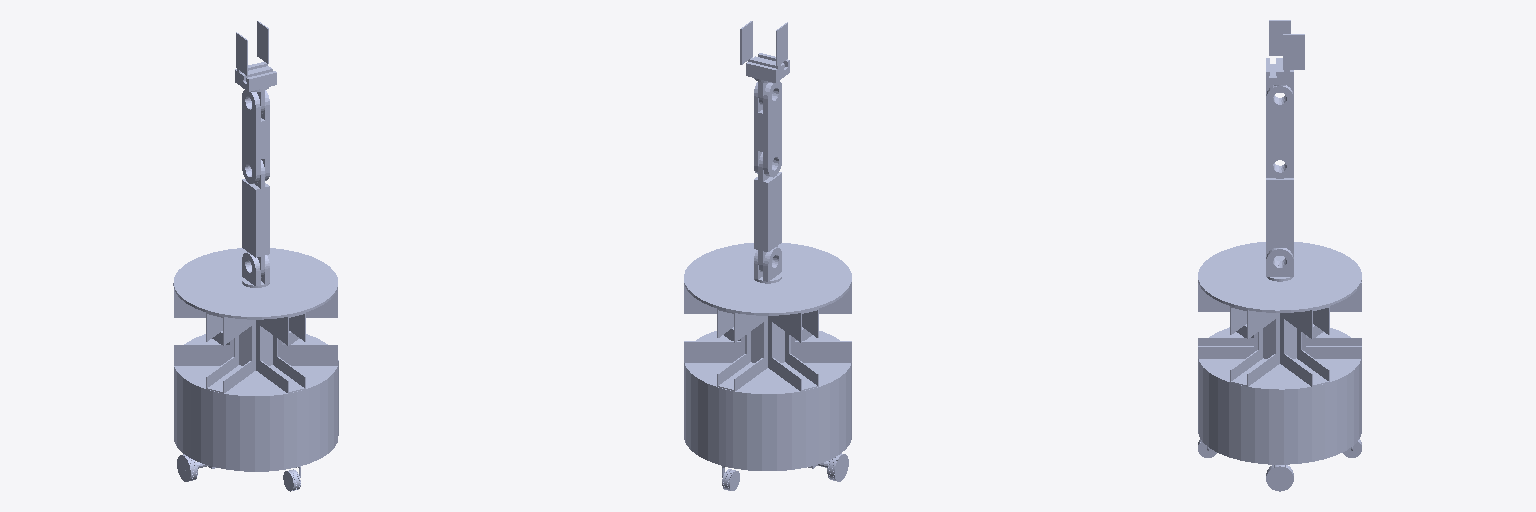
The robot description file, URDF, robot "library_bot_assm":
<?xml version="1.0" encoding="utf-8"?>
<!-- This URDF was automatically created by SolidWorks to URDF Exporter! Originally created by [author] ([email redacted]) 
     Commit Version: 1.6.0-4-g7f85cfe  Build Version: 1.6.7995.38578
     For more information, please see http://wiki.ros.org/sw_urdf_exporter -->
<robot
  name="library_bot_assm">
  <link name="world"/>
  <joint name="world_to_base" type="fixed">
  <parent link="world"/>
  <child link="bot_base_link"/>
  <origin xyz="0 0 0" rpy="0 0 0"/>
  </joint>
  <link
    name="bot_base_link">
    <inertial>
      <origin
        xyz="-9.00001597661697E-18 -2.58181987165882E-17 -0.419286362322794"
        rpy="0 0 0" />
      <mass
        value="95.6023685202303" />
      <inertia
        ixx="3.54500161671179"
        ixy="-5.31259064517897E-18"
        ixz="2.76471553983804E-18"
        iyy="3.57118394280799"
        iyz="-3.31181542125083E-16"
        izz="3.86248881264609" />
    </inertial>
    <visual>
      <origin
        xyz="0 0 0"
        rpy="0 0 0" />
      <geometry>
        <mesh
          filename="package://library_bot_assm/meshes/bot_base_link.STL" />
      </geometry>
      <material
        name="">
        <color
          rgba="0.792156862745098 0.819607843137255 0.933333333333333 1" />
      </material>
    </visual>
    <collision>
      <origin
        xyz="0 0 0"
        rpy="0 0 0" />
      <geometry>
        <mesh
          filename="package://library_bot_assm/meshes/bot_base_link.STL" />
      </geometry>
    </collision>
  </link>
  <link
    name="drive_wheel_left_link">
    <inertial>
      <origin
        xyz="-2.28615654084008E-16 1.11022302462516E-16 -0.015"
        rpy="0 0 0" />
      <mass
        value="0.220374767201206" />
      <inertia
        ixx="0.000162575540140175"
        ixy="-3.36042123849673E-22"
        ixz="2.4353779546448E-21"
        iyy="0.000162575540140175"
        iyz="4.50137116569684E-22"
        izz="0.000292094865200169" />
    </inertial>
    <visual>
      <origin
        xyz="0 0 0"
        rpy="0 0 0" />
      <geometry>
        <mesh
          filename="package://library_bot_assm/meshes/drive_wheel_left_link.STL" />
      </geometry>
      <material
        name="">
        <color
          rgba="0.792156862745098 0.819607843137255 0.933333333333333 1" />
      </material>
    </visual>
    <collision>
      <origin
        xyz="0 0 0"
        rpy="0 0 0" />
      <geometry>
        <mesh
          filename="package://library_bot_assm/meshes/drive_wheel_left_link.STL" />
      </geometry>
    </collision>
  </link>
  <joint
    name="drive_wheel_left_joint"
    type="continuous">
    <origin
      xyz="-0.27 0 -0.66"
      rpy="-1.5707963267949 0 -1.5707963267949" />
    <parent
      link="bot_base_link" />
    <child
      link="drive_wheel_left_link" />
    <axis
      xyz="0 0 1" />
  </joint>
  <link
    name="drive_wheel_right_link">
    <inertial>
      <origin
        xyz="-2.28513258118277E-16 0 0.0150000000000001"
        rpy="0 0 0" />
      <mass
        value="0.220374767201206" />
      <inertia
        ixx="0.000162575540140175"
        ixy="-4.80798731046448E-21"
        ixz="4.59902630806203E-22"
        iyy="0.000162575540140175"
        iyz="-2.95317189816604E-22"
        izz="0.000292094865200169" />
    </inertial>
    <visual>
      <origin
        xyz="0 0 0"
        rpy="0 0 0" />
      <geometry>
        <mesh
          filename="package://library_bot_assm/meshes/drive_wheel_right_link.STL" />
      </geometry>
      <material
        name="">
        <color
          rgba="0.792156862745098 0.819607843137255 0.933333333333333 1" />
      </material>
    </visual>
    <collision>
      <origin
        xyz="0 0 0"
        rpy="0 0 0" />
      <geometry>
        <mesh
          filename="package://library_bot_assm/meshes/drive_wheel_right_link.STL" />
      </geometry>
    </collision>
  </link>
  <joint
    name="drive_wheel_right_joint"
    type="continuous">
    <origin
      xyz="0.27 0 -0.66"
      rpy="-1.5707963267949 0 -1.5707963267949" />
    <parent
      link="bot_base_link" />
    <child
      link="drive_wheel_right_link" />
    <axis
      xyz="0 0 1" />
  </joint>
  <link
    name="swivel_front_link">
    <inertial>
      <origin
        xyz="0.00760462966279492 -0.0633613818775779 0"
        rpy="0 0 0" />
      <mass
        value="0.0236444808728788" />
      <inertia
        ixx="1.38069026593696E-05"
        ixy="-2.40548516604097E-06"
        ixz="-1.41776354874208E-22"
        iyy="5.52868478263428E-06"
        iyz="-1.99276965618111E-22"
        izz="1.8073623534725E-05" />
    </inertial>
    <visual>
      <origin
        xyz="0 0 0"
        rpy="0 0 0" />
      <geometry>
        <mesh
          filename="package://library_bot_assm/meshes/swivel_front_link.STL" />
      </geometry>
      <material
        name="">
        <color
          rgba="0.792156862745098 0.819607843137255 0.933333333333333 1" />
      </material>
    </visual>
    <collision>
      <origin
        xyz="0 0 0"
        rpy="0 0 0" />
      <geometry>
        <mesh
          filename="package://library_bot_assm/meshes/swivel_front_link.STL" />
      </geometry>
    </collision>
  </link>
  <joint
    name="swivel_front_joint"
    type="continuous">
    <origin
      xyz="0 0.25982621214848 -0.595"
      rpy="1.5707963267949 0 0" />
    <parent
      link="bot_base_link" />
    <child
      link="swivel_front_link" />
    <axis
      xyz="0 1 0" />
  </joint>
  <link
    name="swivelwheel_front_link">
    <inertial>
      <origin
        xyz="5.55111512312578E-17 1.11022302462516E-16 2.22614707383154E-16"
        rpy="0 0 0" />
      <mass
        value="0.117291638747911" />
      <inertia
        ixx="5.44584550233809E-05"
        ixy="-1.83756880608948E-20"
        ixz="4.65183930171833E-21"
        iyy="5.44584550233809E-05"
        iyz="-6.74640617676431E-21"
        izz="9.13231642345752E-05" />
    </inertial>
    <visual>
      <origin
        xyz="0 0 0"
        rpy="0 0 0" />
      <geometry>
        <mesh
          filename="package://library_bot_assm/meshes/swivelwheel_front_link.STL" />
      </geometry>
      <material
        name="">
        <color
          rgba="0.792156862745098 0.819607843137255 0.933333333333333 1" />
      </material>
    </visual>
    <collision>
      <origin
        xyz="0 0 0"
        rpy="0 0 0" />
      <geometry>
        <mesh
          filename="package://library_bot_assm/meshes/swivelwheel_front_link.STL" />
      </geometry>
    </collision>
  </link>
  <joint
    name="swivelwheel_front_joint"
    type="continuous">
    <origin
      xyz="0 -0.0774999999999999 0"
      rpy="0 -1.5707963267949 0" />
    <parent
      link="swivel_front_link" />
    <child
      link="swivelwheel_front_link" />
    <axis
      xyz="0 0 1" />
  </joint>
  <link
    name="swivel_back_link">
    <inertial>
      <origin
        xyz="0.0076046296627947 -0.0633613818775779 0"
        rpy="0 0 0" />
      <mass
        value="0.0236444808728788" />
      <inertia
        ixx="1.38069026593696E-05"
        ixy="-2.40548516604097E-06"
        ixz="-1.41776354874208E-22"
        iyy="5.52868478263428E-06"
        iyz="-1.99276965618111E-22"
        izz="1.8073623534725E-05" />
    </inertial>
    <visual>
      <origin
        xyz="0 0 0"
        rpy="0 0 0" />
      <geometry>
        <mesh
          filename="package://library_bot_assm/meshes/swivel_back_link.STL" />
      </geometry>
      <material
        name="">
        <color
          rgba="0.792156862745098 0.819607843137255 0.933333333333333 1" />
      </material>
    </visual>
    <collision>
      <origin
        xyz="0 0 0"
        rpy="0 0 0" />
      <geometry>
        <mesh
          filename="package://library_bot_assm/meshes/swivel_back_link.STL" />
      </geometry>
    </collision>
  </link>
  <joint
    name="swivel_back_joint"
    type="continuous">
    <origin
      xyz="0 -0.259826212148481 -0.595"
      rpy="1.5707963267949 0 0" />
    <parent
      link="bot_base_link" />
    <child
      link="swivel_back_link" />
    <axis
      xyz="0 1 0" />
  </joint>
  <link
    name="swivelwheel_back_link">
    <inertial>
      <origin
        xyz="0 0 6.3995761596305E-19"
        rpy="0 0 0" />
      <mass
        value="0.117291638747911" />
      <inertia
        ixx="5.44584550233809E-05"
        ixy="-1.49215627686324E-20"
        ixz="3.48199429139889E-21"
        iyy="5.44584550233809E-05"
        iyz="-7.34477589515525E-21"
        izz="9.13231642345753E-05" />
    </inertial>
    <visual>
      <origin
        xyz="0 0 0"
        rpy="0 0 0" />
      <geometry>
        <mesh
          filename="package://library_bot_assm/meshes/swivelwheel_back_link.STL" />
      </geometry>
      <material
        name="">
        <color
          rgba="0.792156862745098 0.819607843137255 0.933333333333333 1" />
      </material>
    </visual>
    <collision>
      <origin
        xyz="0 0 0"
        rpy="0 0 0" />
      <geometry>
        <mesh
          filename="package://library_bot_assm/meshes/swivelwheel_back_link.STL" />
      </geometry>
    </collision>
  </link>
  <joint
    name="swivelwheel_back_joint"
    type="continuous">
    <origin
      xyz="0 -0.0775 0"
      rpy="0 -1.5707963267949 0" />
    <parent
      link="swivel_back_link" />
    <child
      link="swivelwheel_back_link" />
    <axis
      xyz="0 0 1" />
  </joint>
  <link
    name="arm1_link">
    <inertial>
      <origin
        xyz="-1.19990045728466E-18 0.0574056537017304 0.01"
        rpy="0 0 0" />
      <mass
        value="0.39707963267949" />
      <inertia
        ixx="0.000838667522715935"
        ixy="4.00523220180742E-20"
        ixz="3.45295789932022E-21"
        iyy="0.000522111614960166"
        iyz="5.32969071569881E-20"
        izz="0.000690798519008228" />
    </inertial>
    <visual>
      <origin
        xyz="0 0 0"
        rpy="0 0 0" />
      <geometry>
        <mesh
          filename="package://library_bot_assm/meshes/arm1_link.STL" />
      </geometry>
      <material
        name="">
        <color
          rgba="0.792156862745098 0.819607843137255 0.933333333333333 1" />
      </material>
    </visual>
    <collision>
      <origin
        xyz="0 0 0"
        rpy="0 0 0" />
      <geometry>
        <mesh
          filename="package://library_bot_assm/meshes/arm1_link.STL" />
      </geometry>
    </collision>
  </link>
  <joint
    name="arm1_joint"
    type="continuous">
    <origin
      xyz="0 0.01 0"
      rpy="1.5707963267949 0 0" />
    <parent
      link="bot_base_link" />
    <child
      link="arm1_link" />
    <axis
      xyz="0 1 0" />
  </joint>
  <link
    name="arm2_link">
    <inertial>
      <origin
        xyz="-4.32481862348499E-19 0.137125967226228 1.5790313656305E-14"
        rpy="0 0 0" />
      <mass
        value="0.979269908169873" />
      <inertia
        ixx="0.00869233762509293"
        ixy="2.25148676868435E-19"
        ixz="5.47718806389964E-20"
        iyy="0.00137892712566646"
        iyz="8.47824992461145E-19"
        izz="0.00803469515997113" />
    </inertial>
    <visual>
      <origin
        xyz="0 0 0"
        rpy="0 0 0" />
      <geometry>
        <mesh
          filename="package://library_bot_assm/meshes/arm2_link.STL" />
      </geometry>
      <material
        name="">
        <color
          rgba="0.792156862745098 0.819607843137255 0.933333333333333 1" />
      </material>
    </visual>
    <collision>
      <origin
        xyz="0 0 0"
        rpy="0 0 0" />
      <geometry>
        <mesh
          filename="package://library_bot_assm/meshes/arm2_link.STL" />
      </geometry>
    </collision>
  </link>
  <joint
    name="arm2_joint"
    type="revolute">
    <origin
      xyz="0 0.0799999999999999 0.01"
      rpy="0 0 0" />
    <parent
      link="arm1_link" />
    <child
      link="arm2_link" />
    <axis
      xyz="1 0 0" />
    <limit
      lower="-1.5708"
      upper="1.5708"
      effort="0"
      velocity="0" />
  </joint>
  <link
    name="arm3_link">
    <inertial>
      <origin
        xyz="-2.25449825414057E-19 0.145125740501822 1.58008868732187E-14"
        rpy="0 0 0" />
      <mass
        value="0.939269908169872" />
      <inertia
        ixx="0.00722908215002739"
        ixy="2.19044783884263E-20"
        ixz="2.62785139153205E-20"
        iyy="0.000736260458999793"
        iyz="-4.29242111266981E-20"
        izz="0.00676343968490559" />
    </inertial>
    <visual>
      <origin
        xyz="0 0 0"
        rpy="0 0 0" />
      <geometry>
        <mesh
          filename="package://library_bot_assm/meshes/arm3_link.STL" />
      </geometry>
      <material
        name="">
        <color
          rgba="0.792156862745098 0.819607843137255 0.933333333333333 1" />
      </material>
    </visual>
    <collision>
      <origin
        xyz="0 0 0"
        rpy="0 0 0" />
      <geometry>
        <mesh
          filename="package://library_bot_assm/meshes/arm3_link.STL" />
      </geometry>
    </collision>
  </link>
  <joint
    name="arm3_joint"
    type="prismatic">
    <origin
      xyz="0 0.1 0"
      rpy="0 0 0" />
    <parent
      link="arm2_link" />
    <child
      link="arm3_link" />
    <axis
      xyz="0 1 0" />
    <limit
      lower="0"
      upper="0.19"
      effort="0"
      velocity="0" />
  </joint>
  <link
    name="arm4_link">
    <inertial>
      <origin
        xyz="-2.75533202459304E-19 0.135 -1.88445319376486E-15"
        rpy="0 0 0" />
      <mass
        value="1.53707963267949" />
      <inertia
        ixx="0.0132798880020701"
        ixy="-7.94093388050907E-20"
        ixz="-1.84967888061378E-20"
        iyy="0.00186787368907097"
        iyz="1.99933319034426E-19"
        izz="0.0125041499946547" />
    </inertial>
    <visual>
      <origin
        xyz="0 0 0"
        rpy="0 0 0" />
      <geometry>
        <mesh
          filename="package://library_bot_assm/meshes/arm4_link.STL" />
      </geometry>
      <material
        name="">
        <color
          rgba="0.792156862745098 0.819607843137255 0.933333333333333 1" />
      </material>
    </visual>
    <collision>
      <origin
        xyz="0 0 0"
        rpy="0 0 0" />
      <geometry>
        <mesh
          filename="package://library_bot_assm/meshes/arm4_link.STL" />
      </geometry>
    </collision>
  </link>
  <joint
    name="arm4_joint"
    type="revolute">
    <origin
      xyz="0 0.28 0"
      rpy="0 0 0" />
    <parent
      link="arm3_link" />
    <child
      link="arm4_link" />
    <axis
      xyz="1 0 0" />
    <limit
      lower="-1.5708"
      upper="1.5708"
      effort="0"
      velocity="0" />
  </joint>
  <link
    name="gripper_base_link">
    <inertial>
      <origin
        xyz="7.63638074505723E-18 0.0702475328230157 -4.43106300640604E-15"
        rpy="0 0 0" />
      <mass
        value="0.693809724509618" />
      <inertia
        ixx="0.00159672167512236"
        ixy="4.7762734252363E-20"
        ixz="-1.22738383160377E-19"
        iyy="0.00119583522942448"
        iyz="2.14669194784949E-19"
        izz="0.00160407921000055" />
    </inertial>
    <visual>
      <origin
        xyz="0 0 0"
        rpy="0 0 0" />
      <geometry>
        <mesh
          filename="package://library_bot_assm/meshes/gripper_base_link.STL" />
      </geometry>
      <material
        name="">
        <color
          rgba="0.792156862745098 0.819607843137255 0.933333333333333 1" />
      </material>
    </visual>
    <collision>
      <origin
        xyz="0 0 0"
        rpy="0 0 0" />
      <geometry>
        <mesh
          filename="package://library_bot_assm/meshes/gripper_base_link.STL" />
      </geometry>
    </collision>
  </link>
  <joint
    name="gripper_base_joint"
    type="revolute">
    <origin
      xyz="0 0.27 0"
      rpy="0 0 0" />
    <parent
      link="arm4_link" />
    <child
      link="gripper_base_link" />
    <axis
      xyz="1 0 0" />
    <limit
      lower="-1.5708"
      upper="1.5708"
      effort="0"
      velocity="0" />
  </joint>
  <link
    name="gripper_pad1_link">
    <inertial>
      <origin
        xyz="0.0129629629629634 -0.0371180555555556 -0.0430555555555556"
        rpy="0 0 0" />
      <mass
        value="0.108" />
      <inertia
        ixx="0.000353619661458332"
        ixy="6.0034722222225E-05"
        ixz="2.0222222222223E-05"
        iyy="9.19560185185198E-05"
        iyz="-7.20416666666664E-05"
        izz="0.000360192346643518" />
    </inertial>
    <visual>
      <origin
        xyz="0 0 0"
        rpy="0 0 0" />
      <geometry>
        <mesh
          filename="package://library_bot_assm/meshes/gripper_pad1_link.STL" />
      </geometry>
      <material
        name="">
        <color
          rgba="0.792156862745098 0.819607843137255 0.933333333333333 1" />
      </material>
    </visual>
    <collision>
      <origin
        xyz="0 0 0"
        rpy="0 0 0" />
      <geometry>
        <mesh
          filename="package://library_bot_assm/meshes/gripper_pad1_link.STL" />
      </geometry>
    </collision>
  </link>
  <joint
    name="gripper_pad1_joint"
    type="prismatic">
    <origin
      xyz="0 0.12 -0.025"
      rpy="-3.1415 -1.5708 0" />
    <parent
      link="gripper_base_link" />
    <child
      link="gripper_pad1_link" />
    <axis
      xyz="0 0 1" />
    <limit
      lower="0"
      upper="0.06"
      effort="0"
      velocity="0" />
  </joint>
  <link
    name="gripper_pad2_link">
    <inertial>
      <origin
        xyz="-0.0129629629629626 -0.0371180555555558 0.0430555555555555"
        rpy="0 0 0" />
      <mass
        value="0.108" />
      <inertia
        ixx="0.000353619661458334"
        ixy="-6.00347222222194E-05"
        ixz="2.02222222222214E-05"
        iyy="9.19560185185171E-05"
        iyz="7.20416666666668E-05"
        izz="0.000360192346643518" />
    </inertial>
    <visual>
      <origin
        xyz="0 0 0"
        rpy="0 0 0" />
      <geometry>
        <mesh
          filename="package://library_bot_assm/meshes/gripper_pad2_link.STL" />
      </geometry>
      <material
        name="">
        <color
          rgba="0.792156862745098 0.819607843137255 0.933333333333333 1" />
      </material>
    </visual>
    <collision>
      <origin
        xyz="0 0 0"
        rpy="0 0 0" />
      <geometry>
        <mesh
          filename="package://library_bot_assm/meshes/gripper_pad2_link.STL" />
      </geometry>
    </collision>
  </link>
  <joint
    name="gripper_pad2_joint"
    type="prismatic">
    <origin
      xyz="0 0.12 -0.025"
      rpy="-3.1415 -1.5708 0" />
    <parent
      link="gripper_base_link" />
    <child
      link="gripper_pad2_link" />
    <axis
      xyz="0 0 1" />
    <limit
      lower="-0.06"
      upper="0"
      effort="0"
      velocity="0" />
  </joint>
</robot>

--- Render facts (derived) ---
The picture shows the robot from 3 angles, left to right: view 1: azimuth 30°, elevation 25°; view 2: azimuth 150°, elevation 25°; view 3: azimuth 270°, elevation 25°; orthographic projection.
Model library_bot_assm with 15 links and 14 joints (3 revolute, 7 continuous, 3 prismatic, 1 fixed), rooted at world, posed every joint at zero.
Links seen in each view (by area): view 1: bot_base_link, arm4_link, arm2_link, gripper_base_link, arm1_link; view 2: bot_base_link, arm4_link, arm2_link, gripper_base_link, arm1_link, gripper_pad1_link, gripper_pad2_link; view 3: bot_base_link, arm4_link, arm2_link, gripper_pad2_link, arm1_link, gripper_base_link, gripper_pad1_link, drive_wheel_right_link.
Link boxes in pixels (<box>): bot_base_link: <box>173,248,338,471</box>; arm4_link: <box>242,90,269,183</box>; arm2_link: <box>242,186,269,277</box>; gripper_base_link: <box>235,66,276,113</box>; arm1_link: <box>242,252,269,287</box>; bot_base_link: <box>684,243,851,470</box>; arm4_link: <box>754,81,781,177</box>; arm2_link: <box>754,180,781,272</box>; gripper_base_link: <box>746,53,789,105</box>; arm1_link: <box>754,247,781,283</box>; gripper_pad1_link: <box>762,22,787,74</box>; gripper_pad2_link: <box>740,21,763,64</box>; bot_base_link: <box>1198,242,1361,481</box>; arm4_link: <box>1266,85,1293,178</box>; arm2_link: <box>1266,187,1293,265</box>; gripper_pad2_link: <box>1283,34,1304,77</box>; arm1_link: <box>1266,248,1293,281</box>; gripper_base_link: <box>1266,58,1293,102</box>; gripper_pad1_link: <box>1269,20,1290,55</box>; drive_wheel_right_link: <box>1266,465,1293,491</box>.
Bounding box of the posed robot: 0.6 × 0.5947 × 1.71 m (x, y, z).
Meshes: 14 distinct files referenced, 14 mesh visuals loaded (14 binary STL).